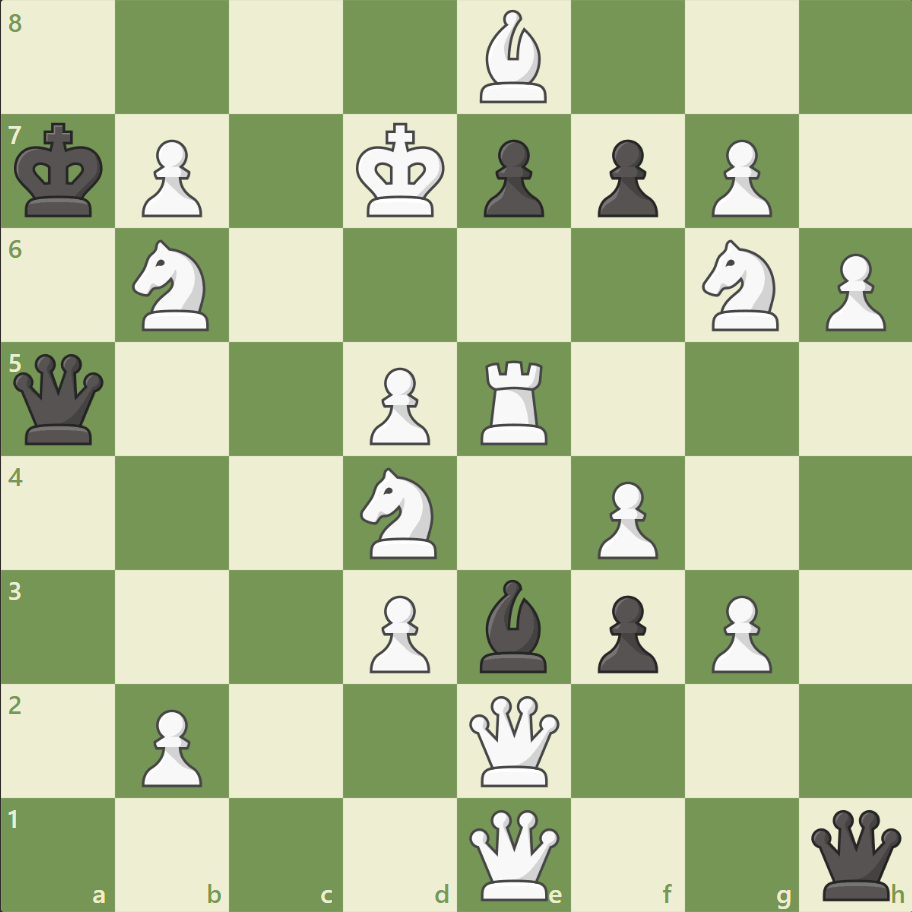B: (471, 6, 555, 109)
K: (351, 117, 451, 225)
N: (124, 234, 222, 337), (351, 461, 449, 564), (692, 234, 789, 337)
P: (133, 132, 208, 223), (701, 132, 776, 223), (701, 586, 776, 677), (133, 700, 208, 791), (815, 246, 889, 337), (361, 359, 435, 450), (588, 473, 662, 564), (361, 586, 435, 677)
Q: (464, 690, 563, 789), (464, 804, 563, 903)
R: (473, 352, 556, 449)
b: (471, 574, 555, 676)
k: (11, 117, 111, 225)
p: (474, 132, 549, 223), (588, 132, 662, 223), (588, 586, 662, 677)
q: (10, 349, 109, 449), (805, 804, 904, 903)
